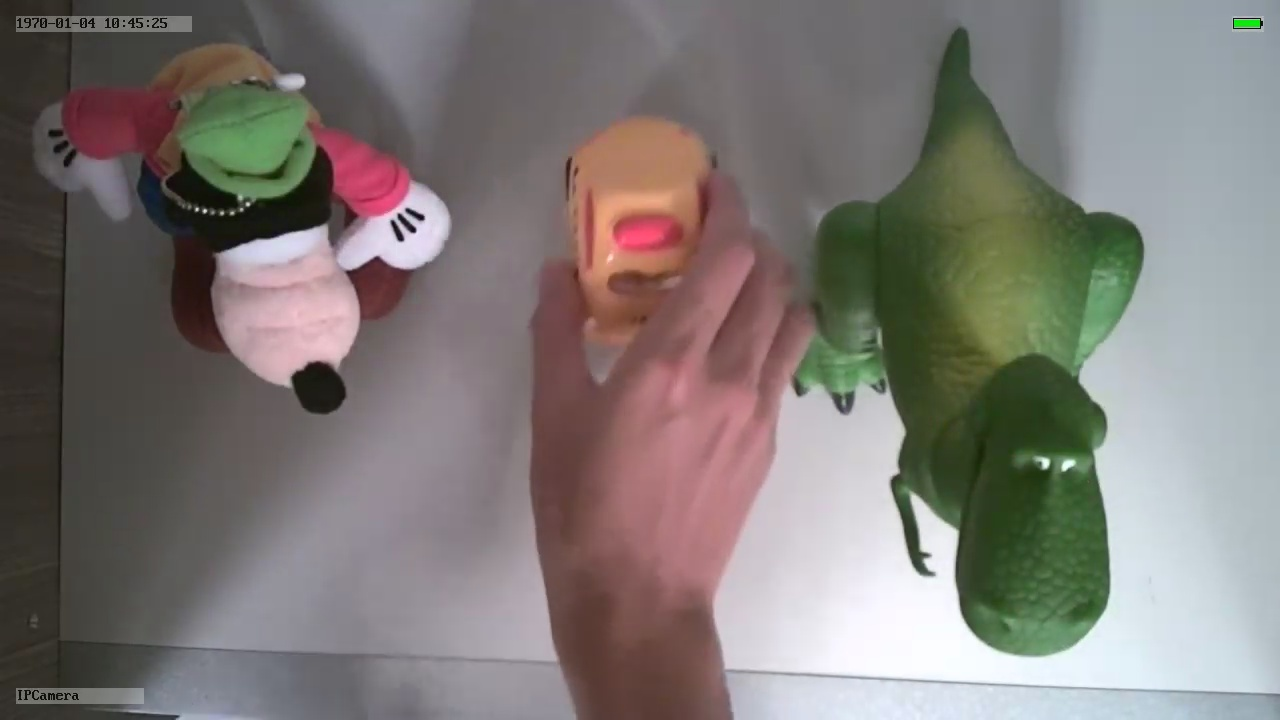goofy: (33, 37, 456, 418)
